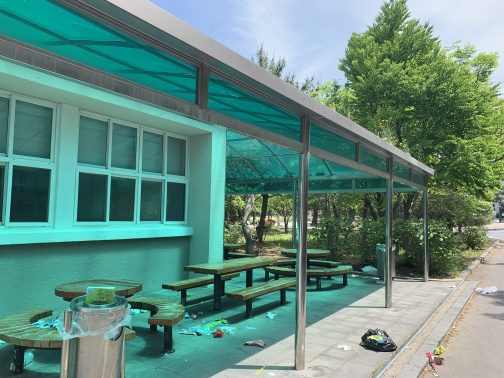Ara Hall: (3, 72, 433, 371)
